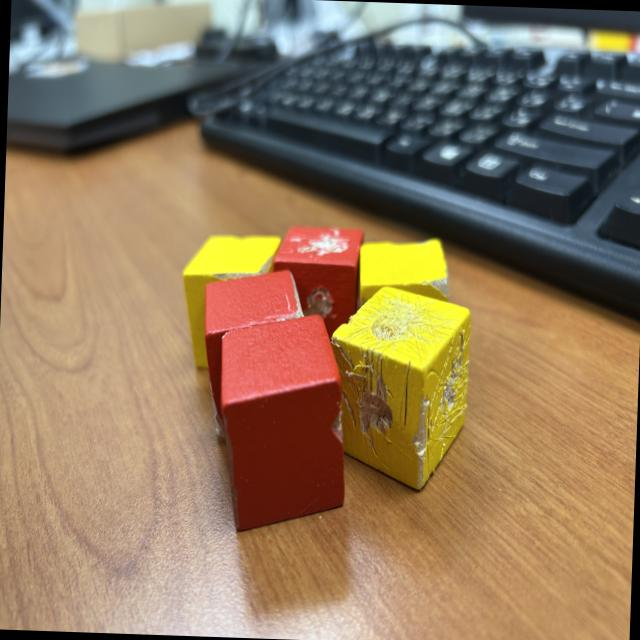broken: (213, 311, 350, 535), (327, 283, 471, 493), (198, 267, 308, 444), (179, 231, 283, 373), (354, 236, 451, 378), (267, 224, 364, 358)
